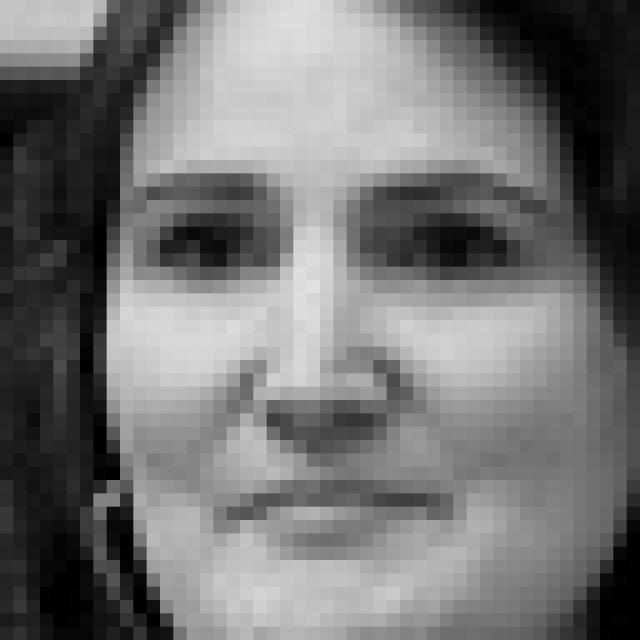sad: (130, 163, 555, 566)
